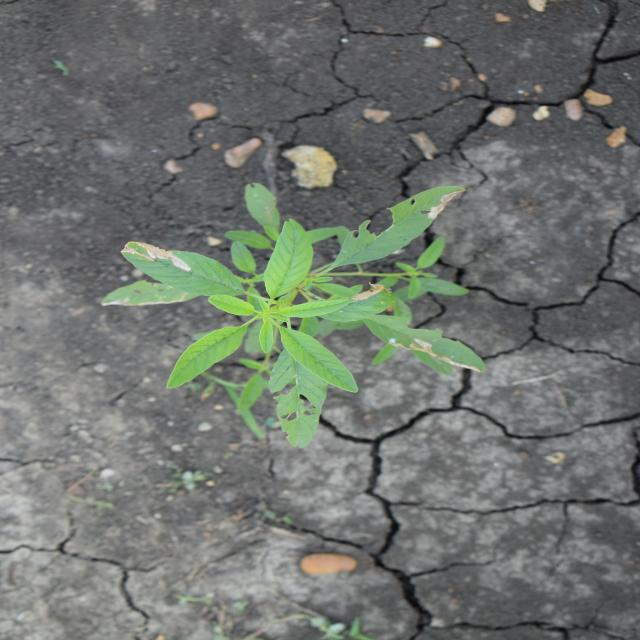Waterhemp: (97, 181, 491, 450)
